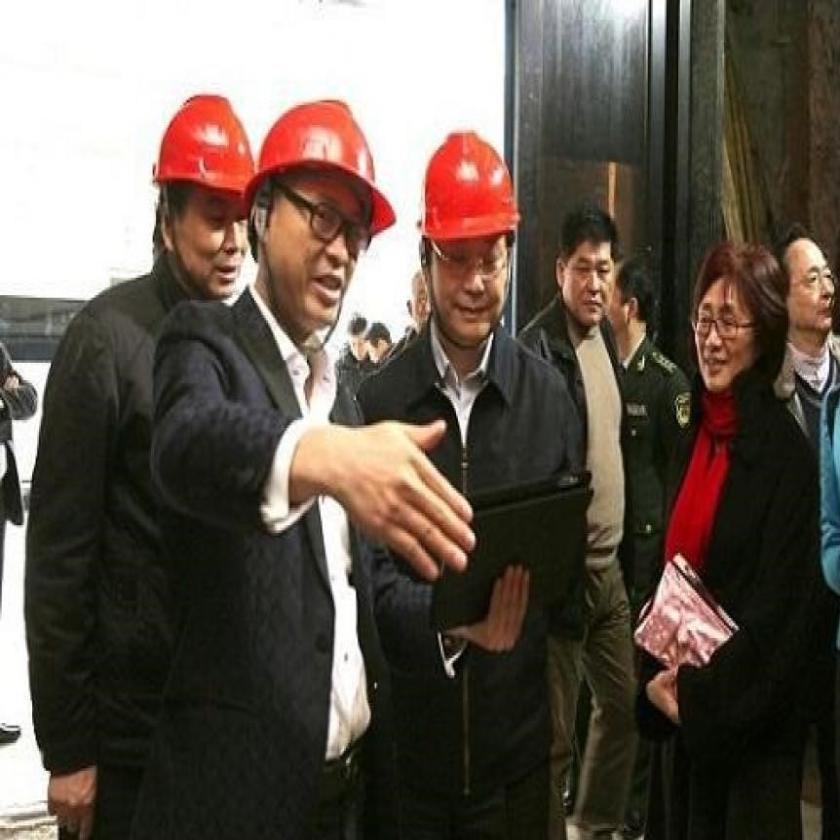Con_casco: (251, 91, 398, 333), (415, 101, 535, 347), (126, 77, 251, 290)
Sin_casco: (692, 226, 791, 412), (551, 196, 613, 320)
